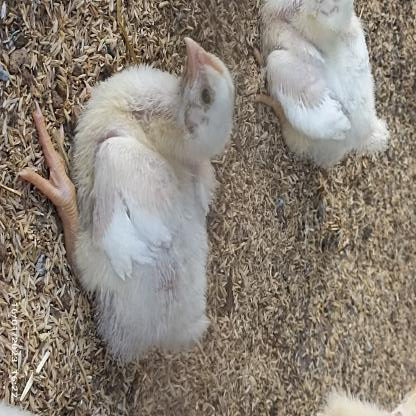Unhealthy: (26, 22, 254, 369)
